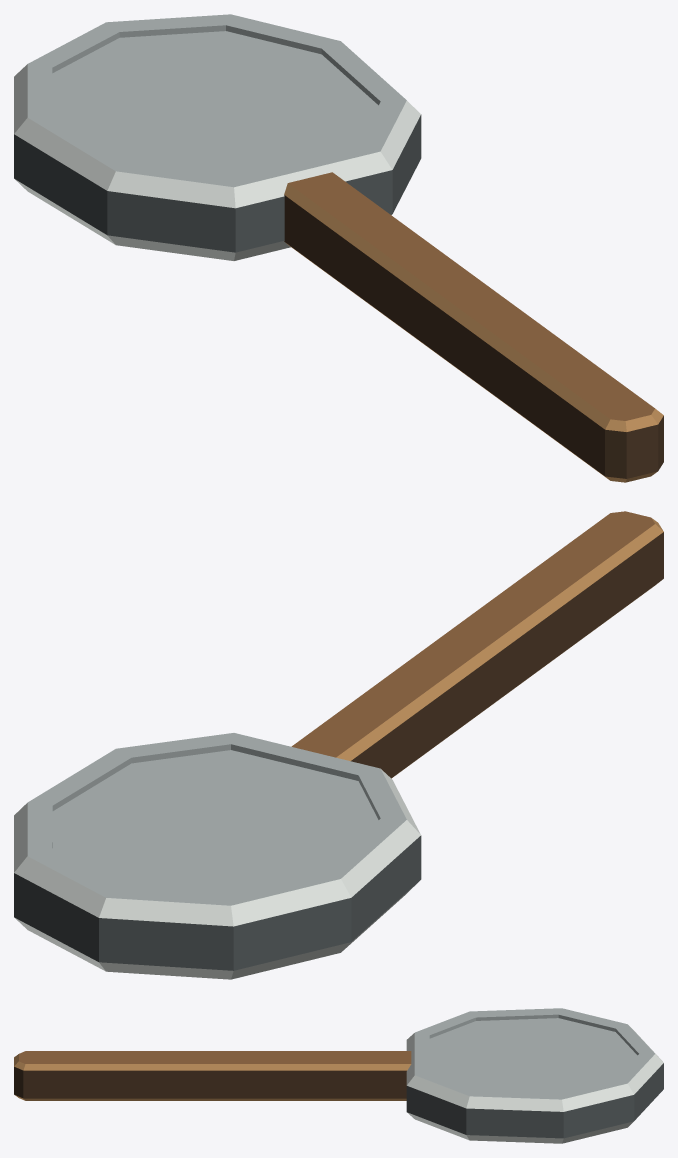
Rendered from stone_shovel.fbx.
3 views of the same model, one above another, from view 1: azimuth 30°, elevation 25°; view 2: azimuth 150°, elevation 25°; view 3: azimuth 270°, elevation 25° (orthographic). The views are drawn at different scales.
Parts seen in each view (by area): view 1: stone_shovel; view 2: stone_shovel; view 3: stone_shovel.
Part boxes in pixels (x1,y1,x2,y2): stone_shovel: (14,14,663,482); stone_shovel: (14,511,663,979); stone_shovel: (14,1008,663,1143).
Bounding box in the file's own units: 0.86 × 0.18 × 2.4.
Materials: 1 (1 with a texture image).
